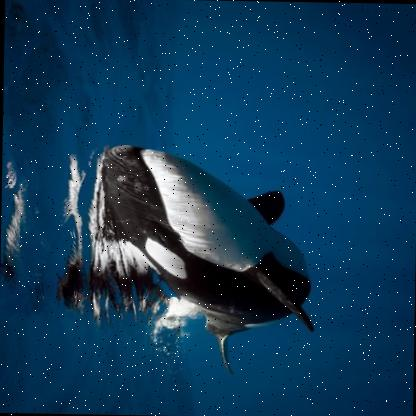killer_whale: (75, 138, 348, 379)
